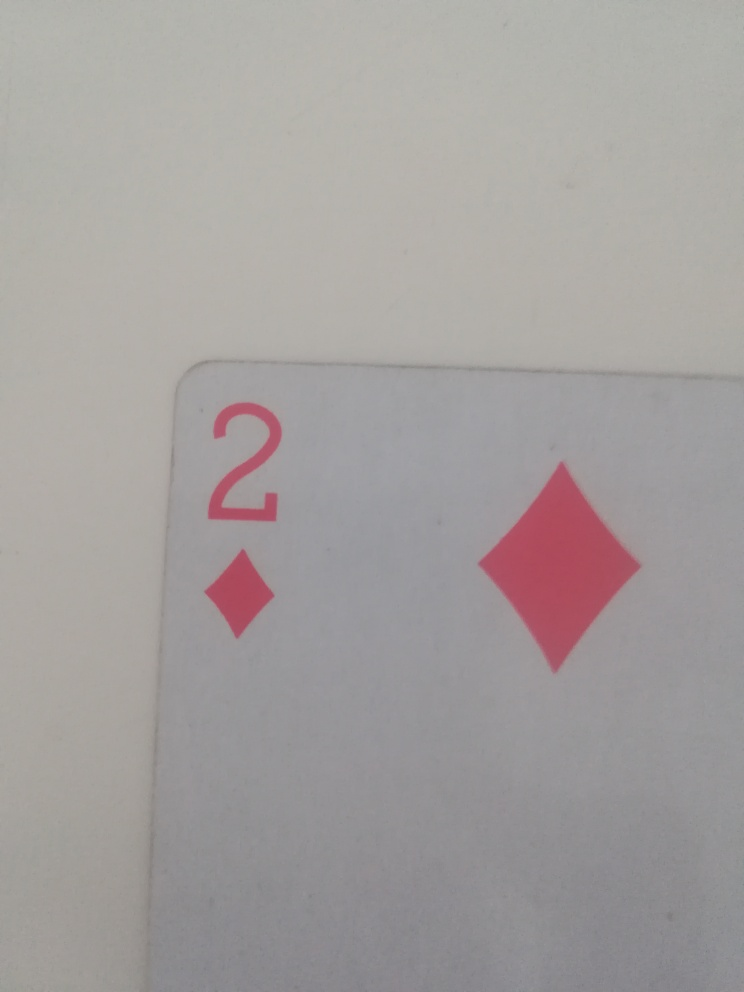2D: (200, 393, 292, 651)
